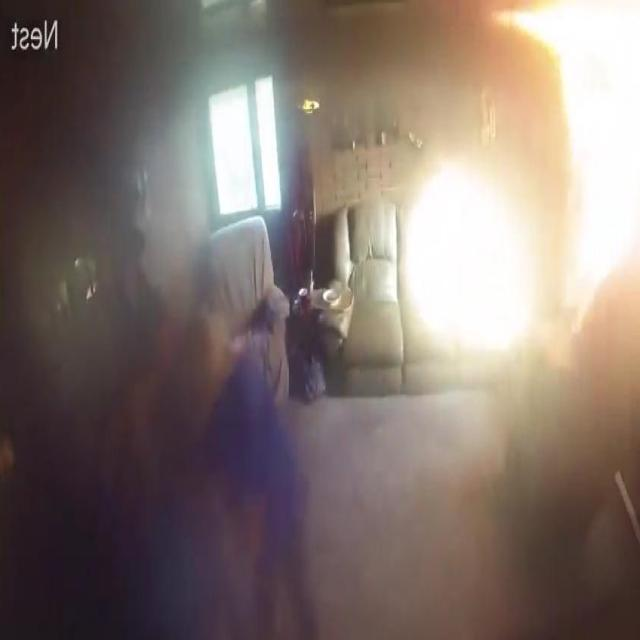smoke: (549, 0, 640, 267)
